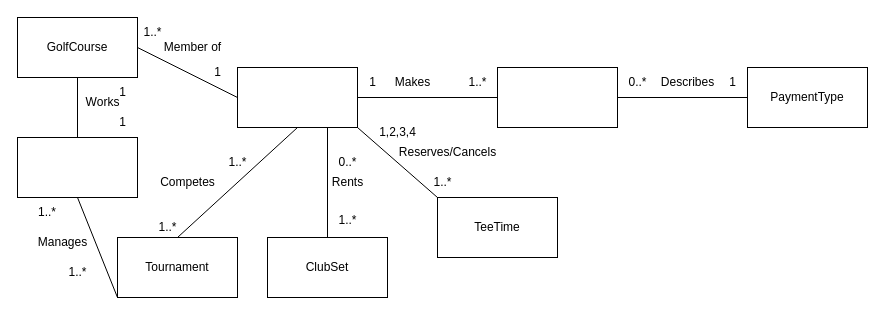
Image size: 885x316. Some labels were removed from this diagram. The shapes that lost their labels are listed below. From the top down, each one's centre as x and y in pixels, then its label:
At (x=297, y=97): "Member".
At (x=557, y=97): "Payment".
At (x=77, y=167): "Manager".
